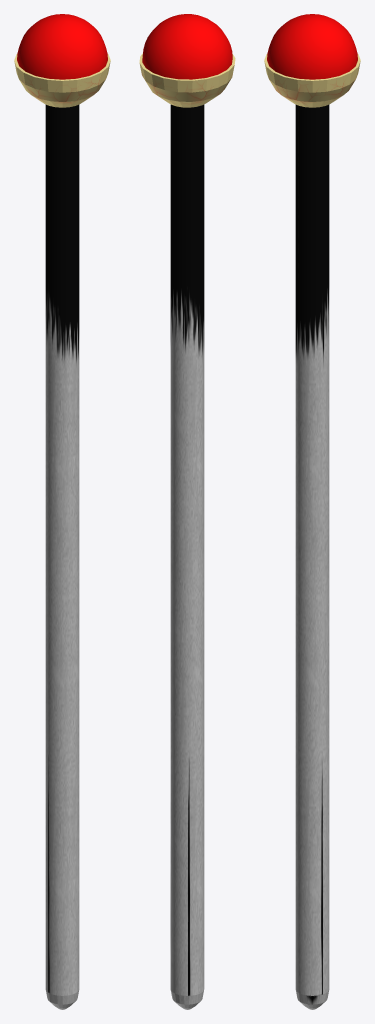
The model's file is Firestaff.FBX.
3 renders of one model, left to right at view 1: azimuth 90°, elevation 25°; view 2: azimuth 150°, elevation 25°; view 3: azimuth 270°, elevation 25°, orthographic.
Visible parts, largest first — view 1: pCylinder1, pSphere1, pCylinder2; view 2: pCylinder1, pSphere1, pCylinder2; view 3: pCylinder1, pSphere1, pCylinder2.
Boxes of the visible parts, left/top/right/bottom form: pCylinder1: left=45, top=104, right=79, bottom=1009; pSphere1: left=17, top=14, right=107, bottom=79; pCylinder2: left=14, top=54, right=110, bottom=107; pCylinder1: left=170, top=104, right=204, bottom=1009; pSphere1: left=142, top=14, right=232, bottom=79; pCylinder2: left=139, top=53, right=235, bottom=107; pCylinder1: left=295, top=104, right=329, bottom=1009; pSphere1: left=267, top=14, right=357, bottom=79; pCylinder2: left=264, top=54, right=360, bottom=107.
Size of the model in its own units: 1.5 by 17.03 by 1.5.
Materials: 3 (3 with a texture image).
